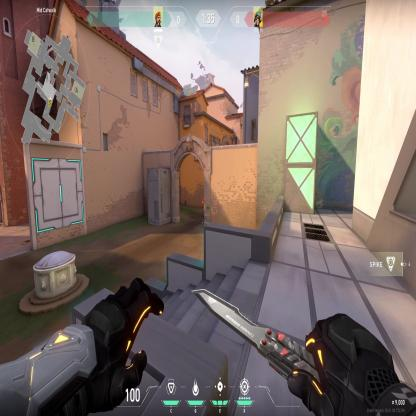enemy: (202, 195, 204, 224)
